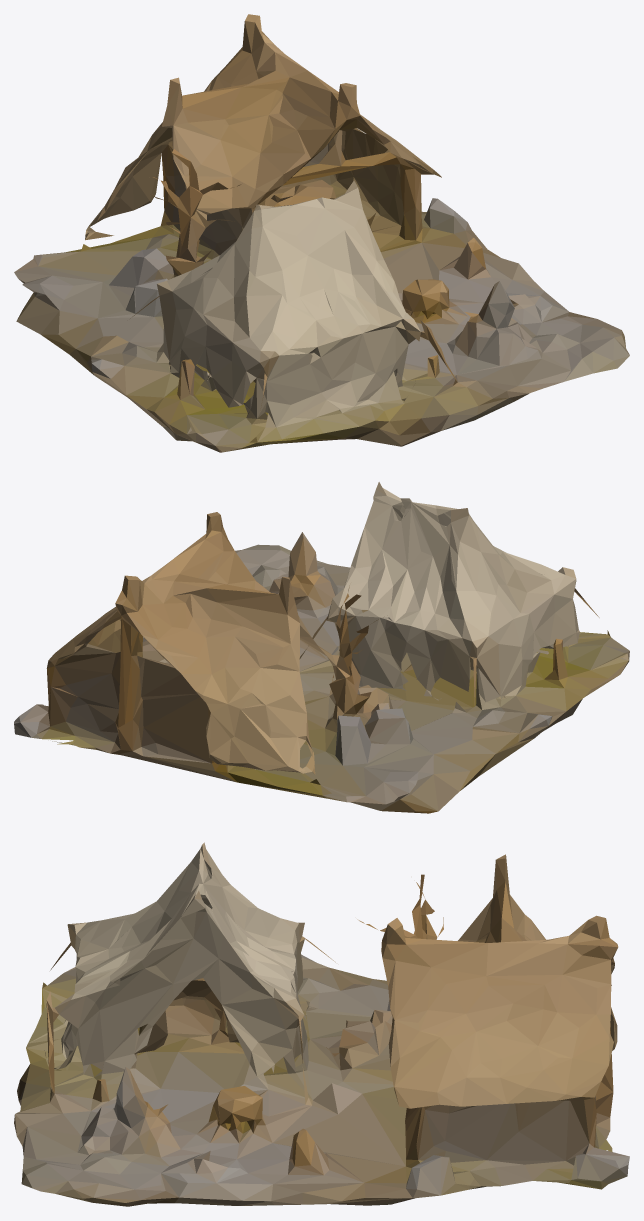
File: human_camp.glb
3 views of the same model, one above another, from view 1: azimuth 30°, elevation 25°; view 2: azimuth 150°, elevation 25°; view 3: azimuth 270°, elevation 25° (orthographic). The views are drawn at different scales.
Parts seen in each view (by area): view 1: geometry_0; view 2: geometry_0; view 3: geometry_0.
Boxes of the visible parts, left/top/right/bottom form: geometry_0: left=14, top=14, right=629, bottom=452; geometry_0: left=14, top=482, right=629, bottom=813; geometry_0: left=14, top=842, right=629, bottom=1206.
Bounding box in the file's own units: 1.67 × 0.7948 × 1.82.
